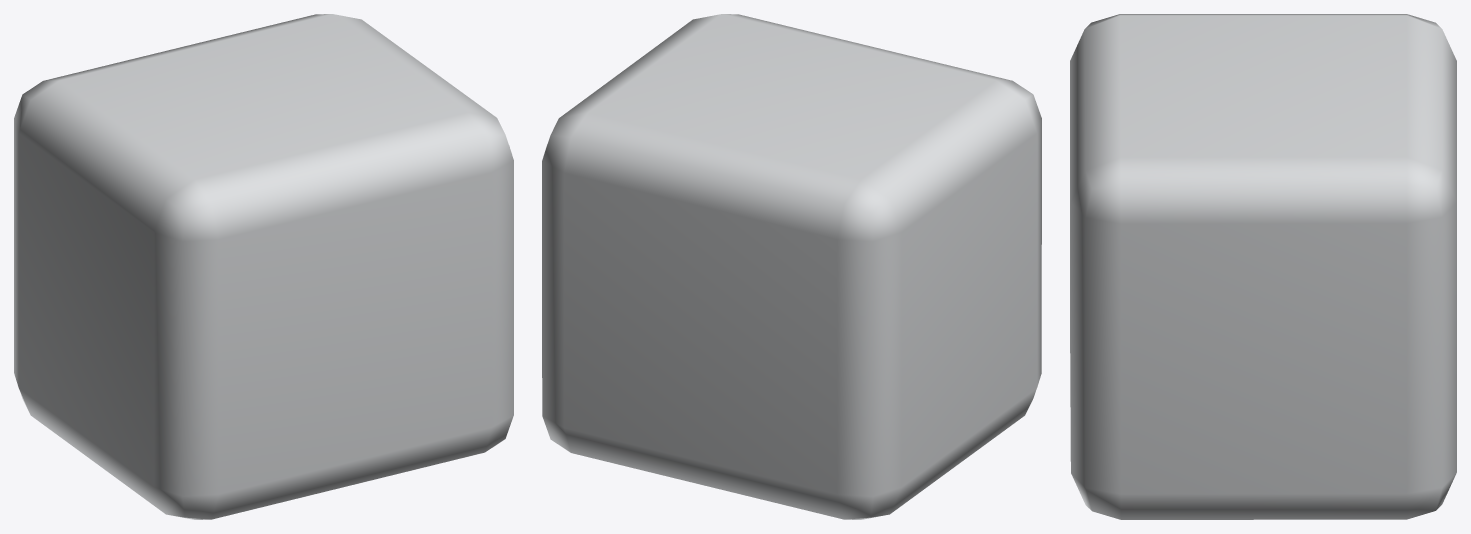
The model's file is SM_Cloud_01_A.fbx.
The picture shows the model from 3 angles, left to right: view 1: azimuth 30°, elevation 25°; view 2: azimuth 150°, elevation 25°; view 3: azimuth 270°, elevation 25°; orthographic projection. The views are drawn at different scales.
Parts seen in each view (by area): view 1: pCube786; view 2: pCube786; view 3: pCube786.
Part boxes in pixels (bbox=[...]): pCube786: bbox=[14, 14, 513, 519]; pCube786: bbox=[542, 14, 1041, 519]; pCube786: bbox=[1070, 14, 1456, 519].
Size of the model in its own units: 110 by 101 by 98.05.
